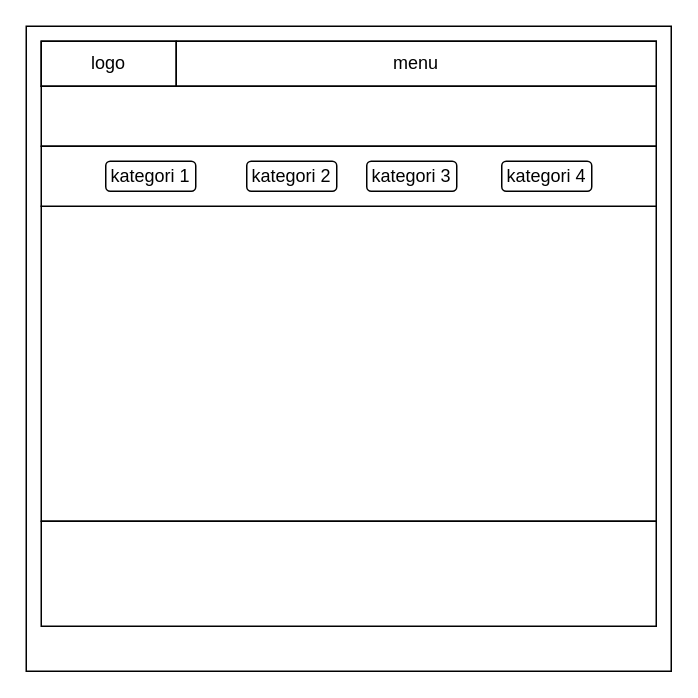
Image size: 698x698. Some labels were removed from this diagram. Here are the shapes that lost their labels. From the top down, the centre of each, then its label:
point 348,115: banner
point 348,363: daftar produk
point 348,573: footer
